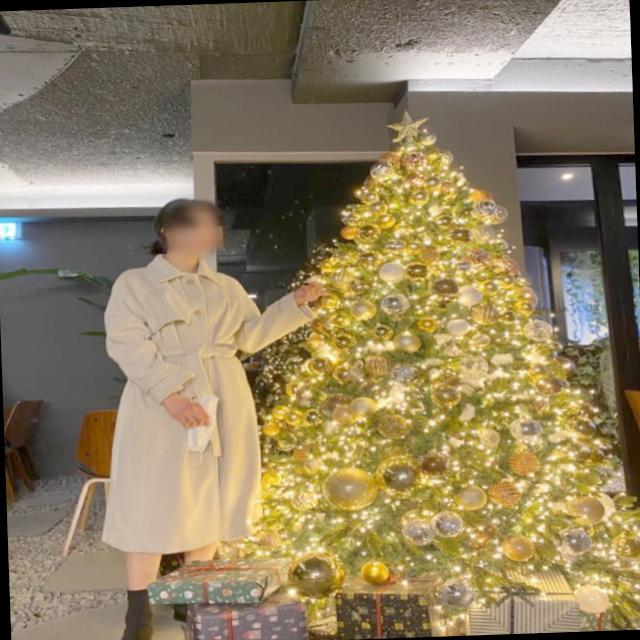coat: (92, 250, 324, 557)
